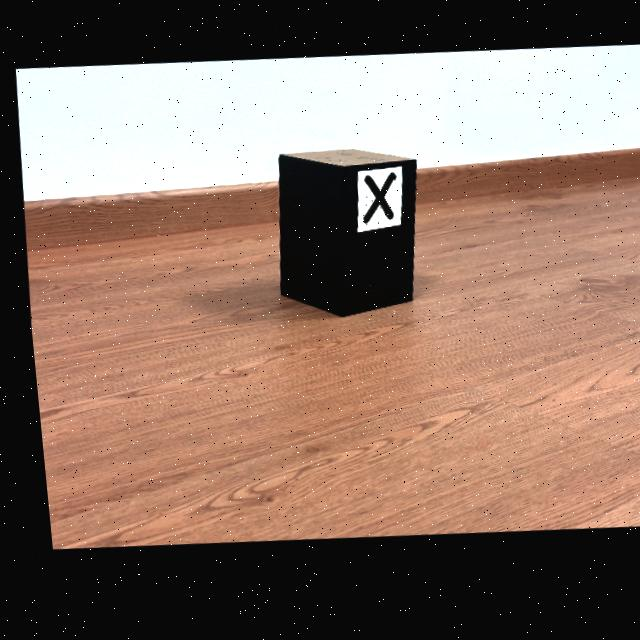X: (359, 179, 390, 229)
